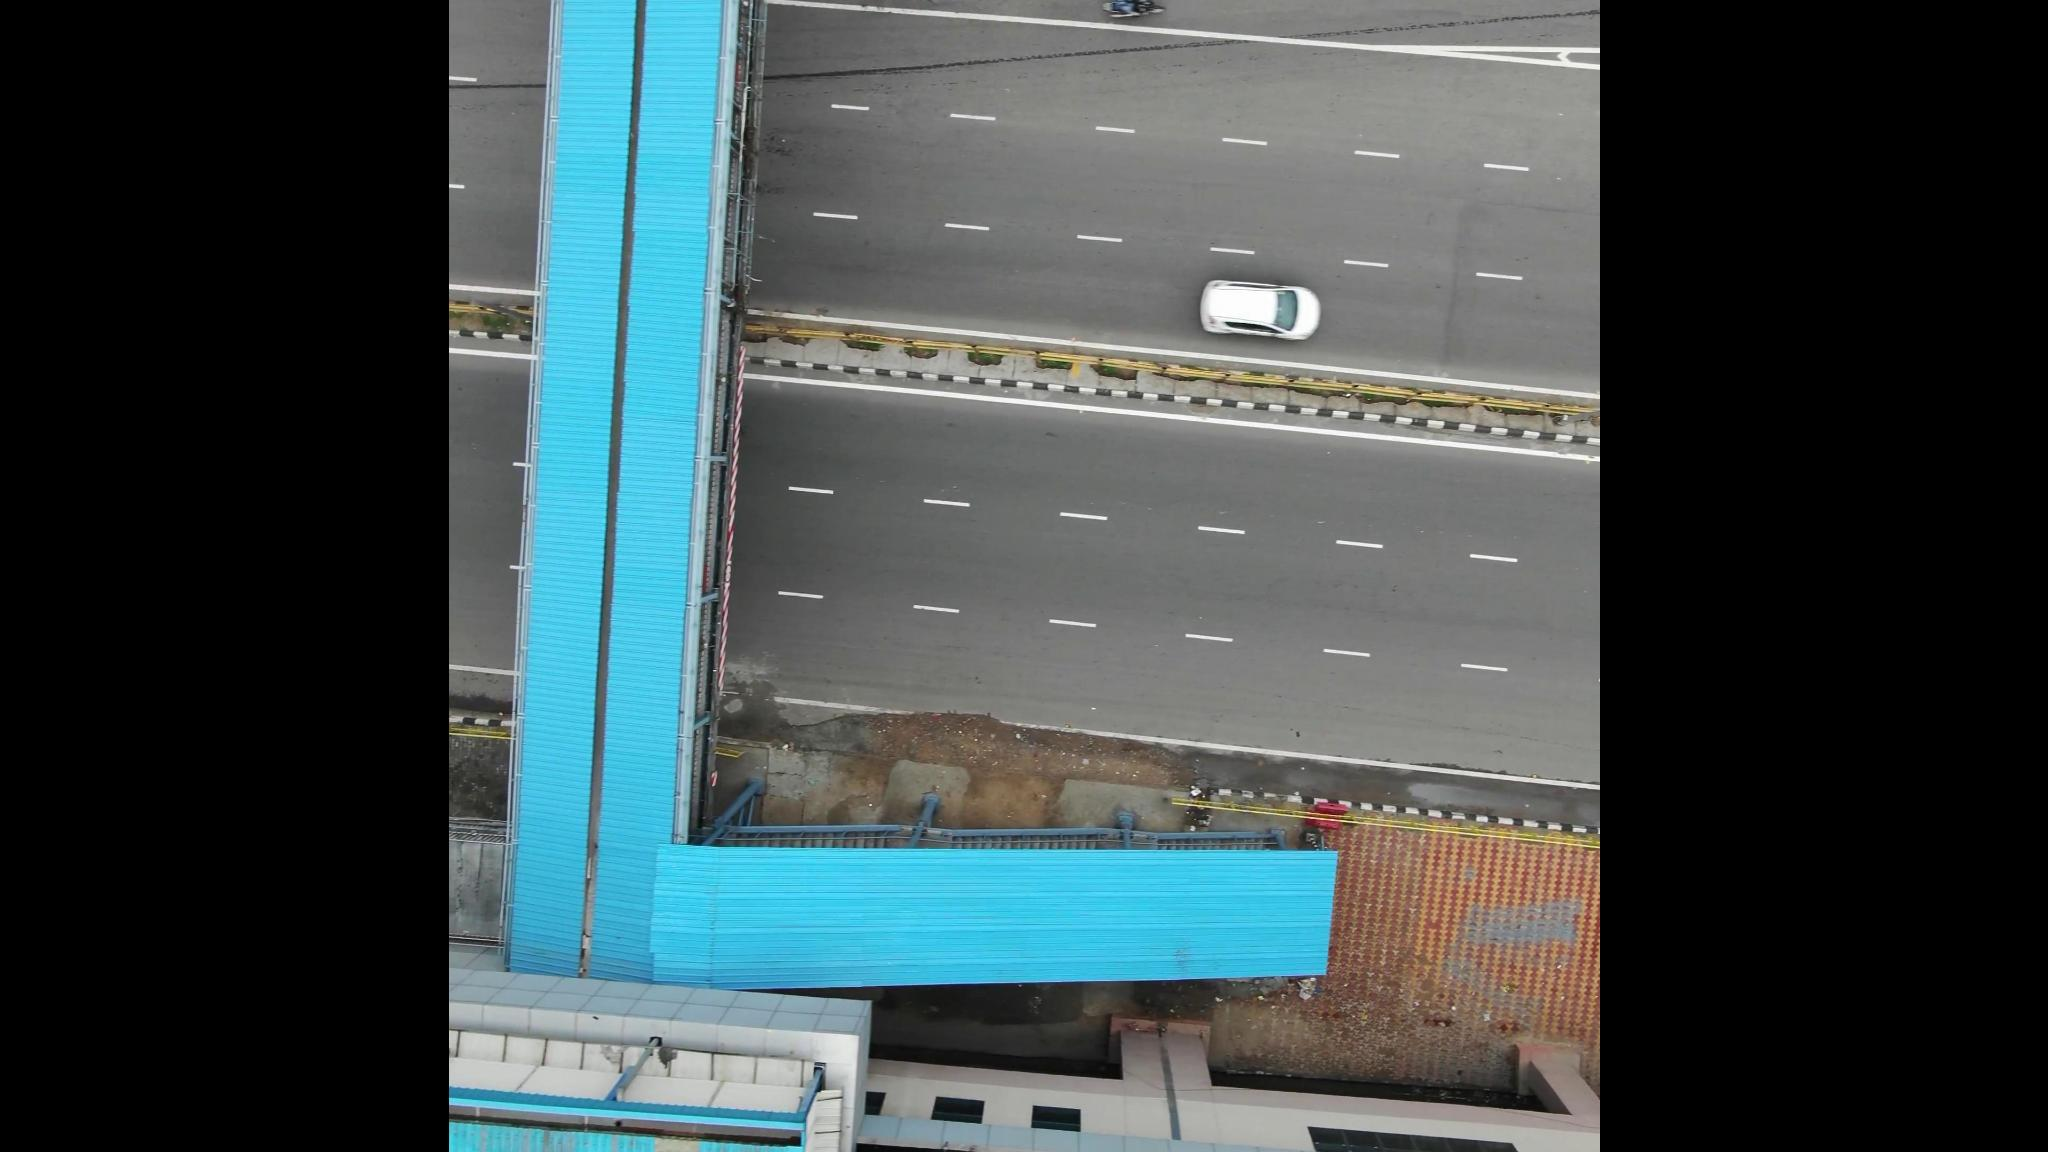Muddy_road: (881, 708, 1018, 781), (1044, 744, 1173, 798)
